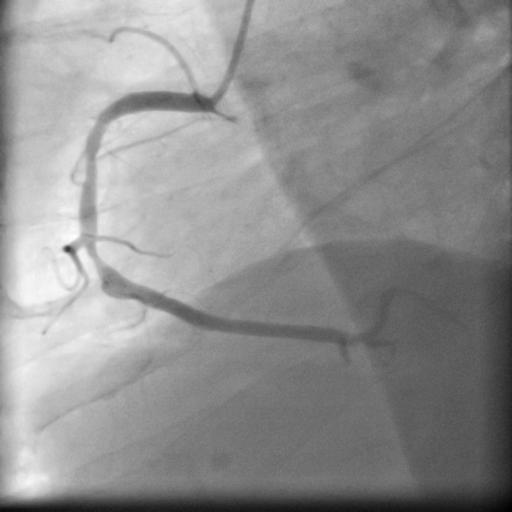Stenosis: (81, 234, 114, 280)
